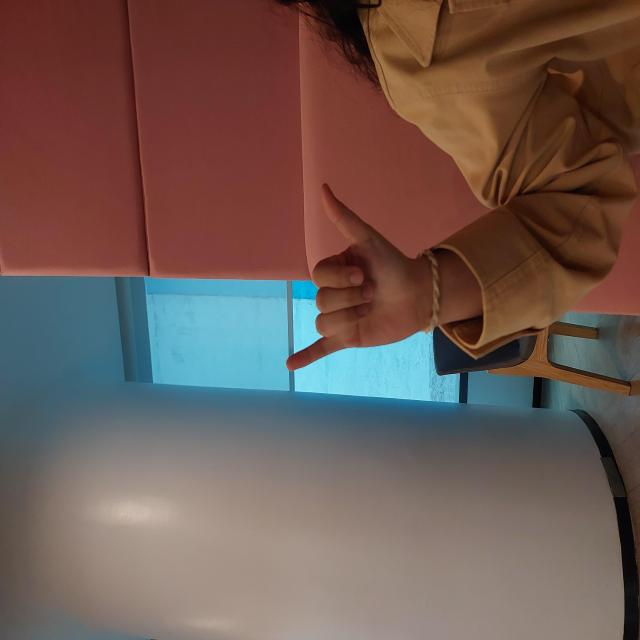Y: (263, 282, 461, 447)
